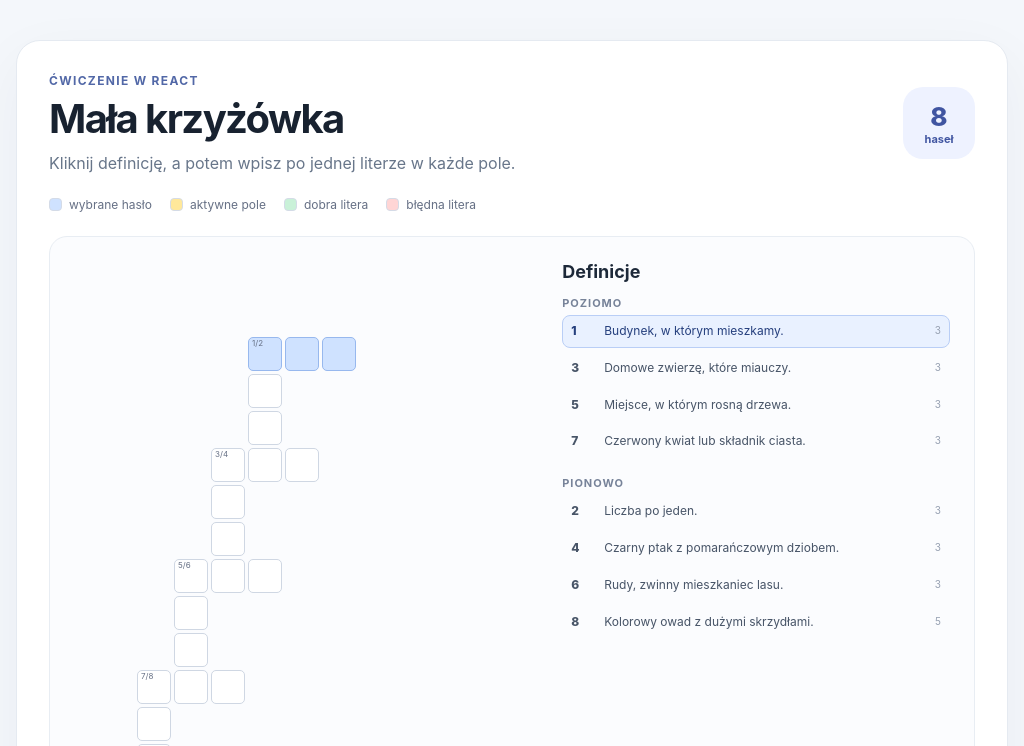
Test case: plansza i odpowiedzi › pomija cyfrę, przyjmuje litery i zostawia tylko ostatnią wpisaną literę
In the field named "Wiersz 3, kolumna 4, litera D": (265, 354) [249,338,281,370], type "7"
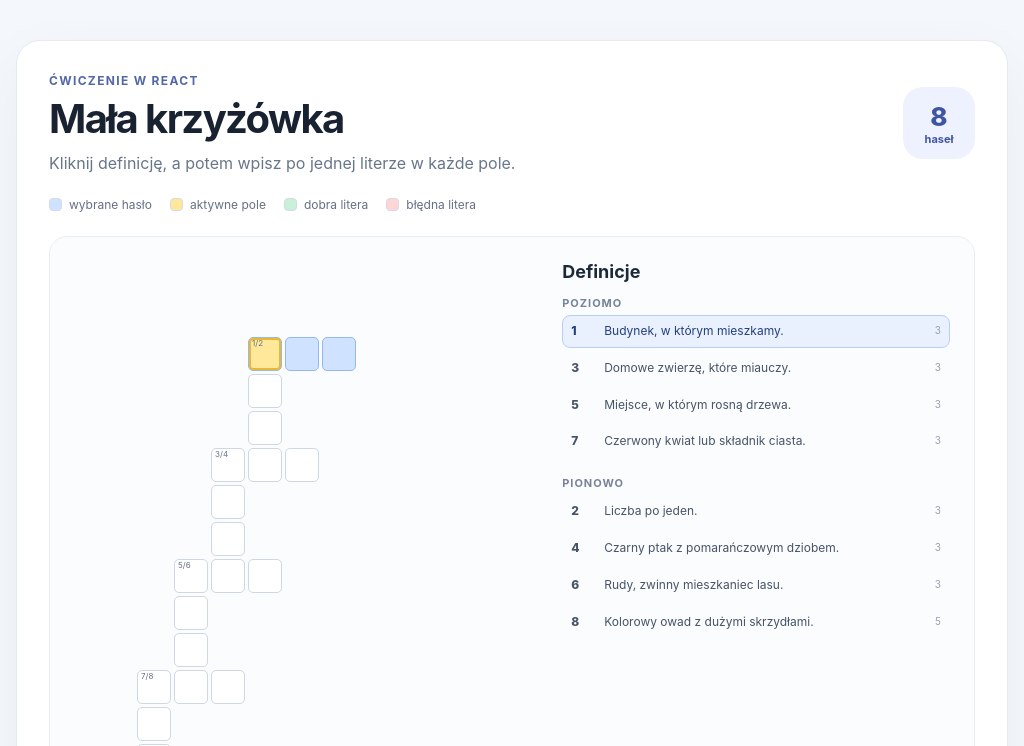
In the field named "Wiersz 3, kolumna 4, litera D": (265, 354) [249,338,281,370], type "ab"
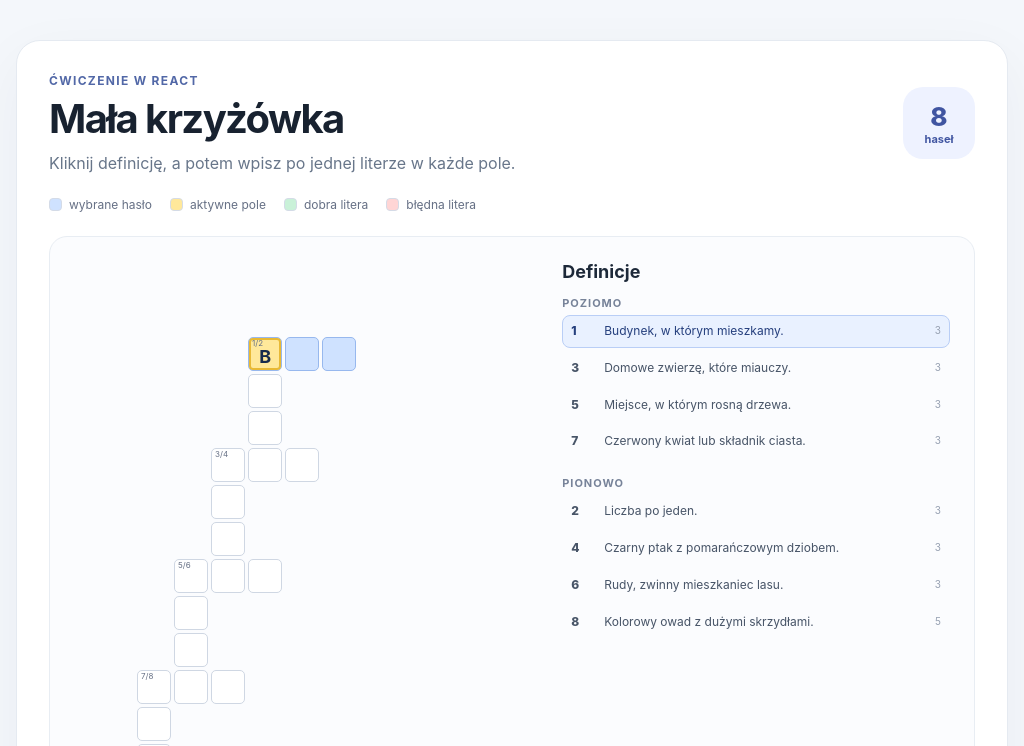
Expected: the field named "Wiersz 3, kolumna 4, litera D" holds "B", [249,338,281,370]
